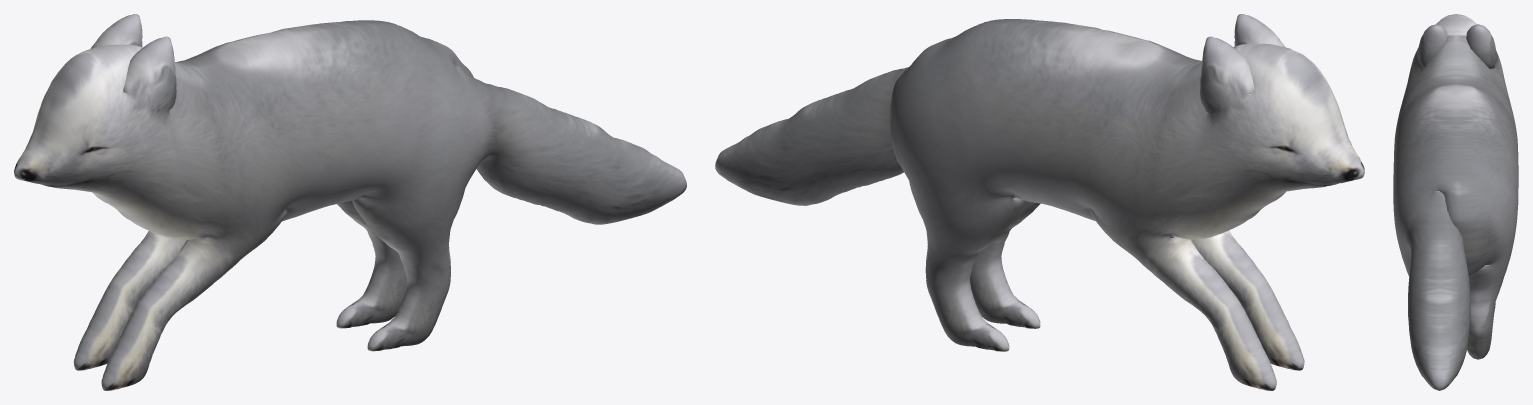
3 views of the same model, side by side, from view 1: azimuth 30°, elevation 25°; view 2: azimuth 150°, elevation 25°; view 3: azimuth 270°, elevation 25° (orthographic). The views are drawn at different scales.
Size of the model in its own units: 7.97 by 4.24 by 1.92.
Materials: 1 (1 with a texture image).
